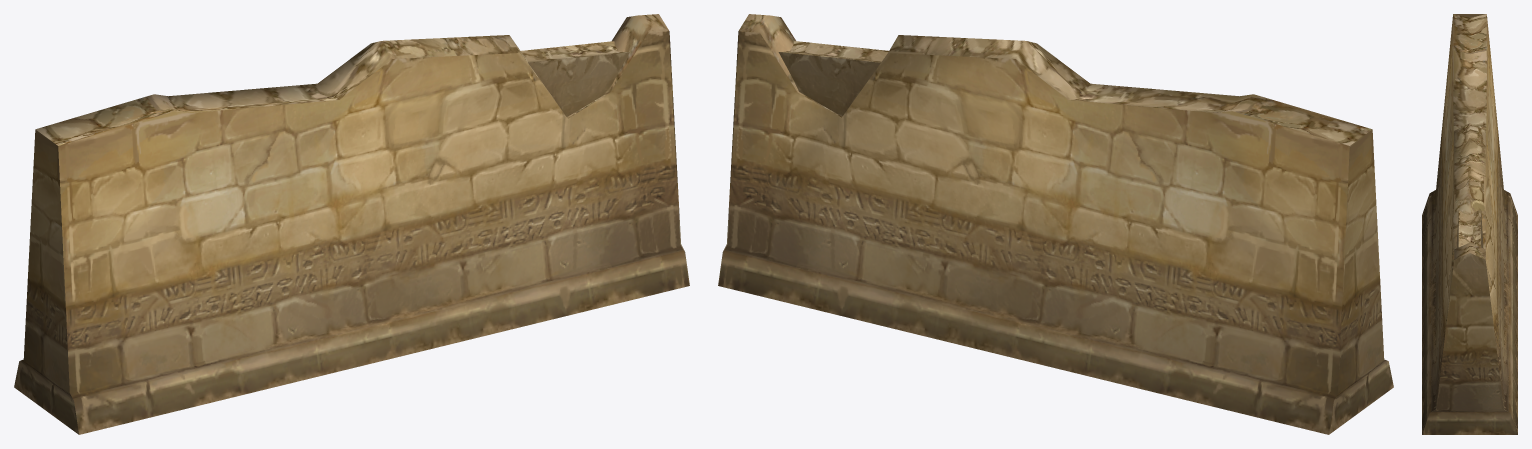
The model's file is lv7_qiang_2.FBX.
The picture shows the model from 3 angles, left to right: view 1: azimuth 30°, elevation 25°; view 2: azimuth 150°, elevation 25°; view 3: azimuth 270°, elevation 25°; orthographic projection. The views are drawn at different scales.
Parts seen in each view (by area): view 1: lv7_qiang_2; view 2: lv7_qiang_2; view 3: lv7_qiang_2.
Boxes of the visible parts, left/top/right/bottom form: lv7_qiang_2: left=14, top=14, right=689, bottom=434; lv7_qiang_2: left=718, top=14, right=1393, bottom=434; lv7_qiang_2: left=1422, top=14, right=1517, bottom=434.
Bounding box in the file's own units: 875 × 394 × 161.
